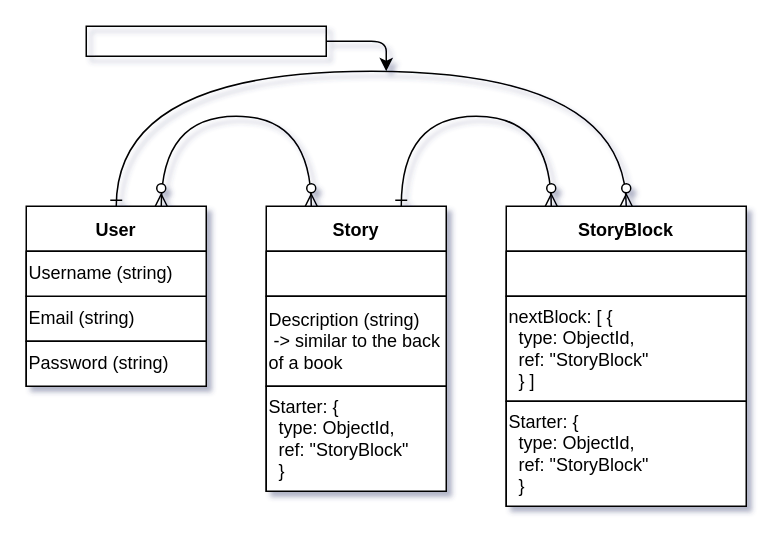
Image size: 782x542. Some labels were removed from this diagram. The centre of each missing label's shape, as x and y in pixels:
"Test (string)" belongs at pixel 625 273.
"Title (string)" belongs at pixel 355 273.
"user progress / save feature" belongs at pixel 205 40.
